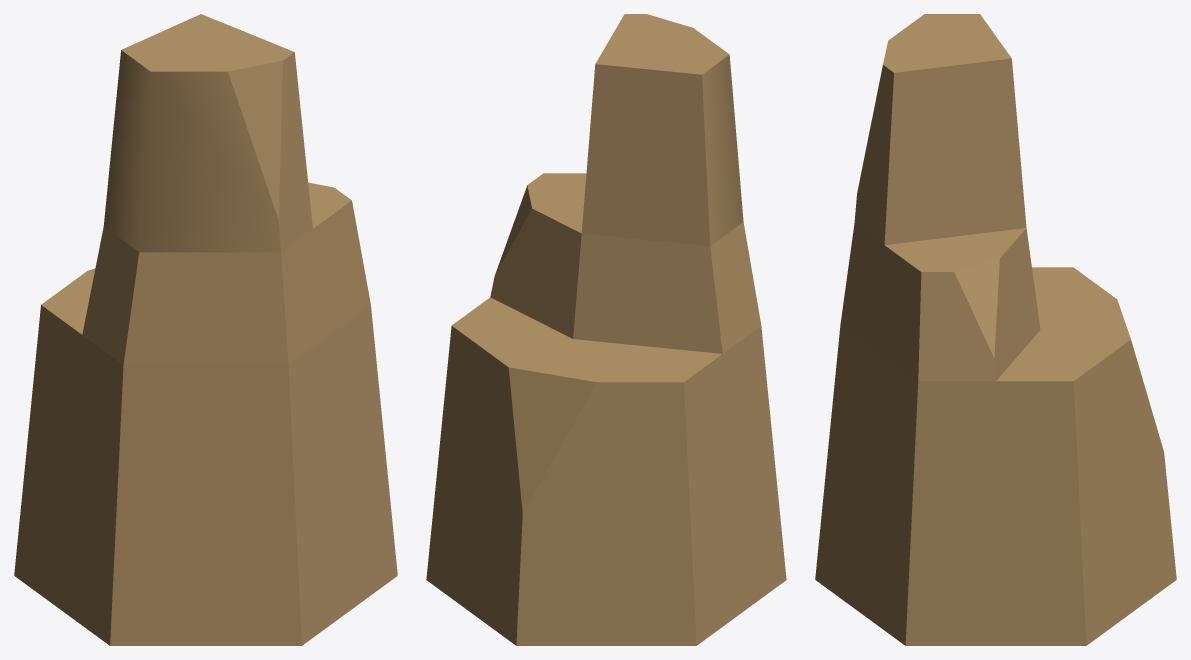
File: ds_rock_c.glb
3 views of the same model, side by side, from view 1: azimuth 30°, elevation 25°; view 2: azimuth 150°, elevation 25°; view 3: azimuth 270°, elevation 25° (orthographic). The views are drawn at different scales.
Parts seen in each view (by area): view 1: ds_rock_c; view 2: ds_rock_c; view 3: ds_rock_c.
Boxes of the visible parts, x1,y1,x2,y2 form: ds_rock_c: (14,14,397,645); ds_rock_c: (426,14,786,645); ds_rock_c: (815,14,1176,645).
Bounding box in the file's own units: 1.74 × 3.2 × 2.01.
